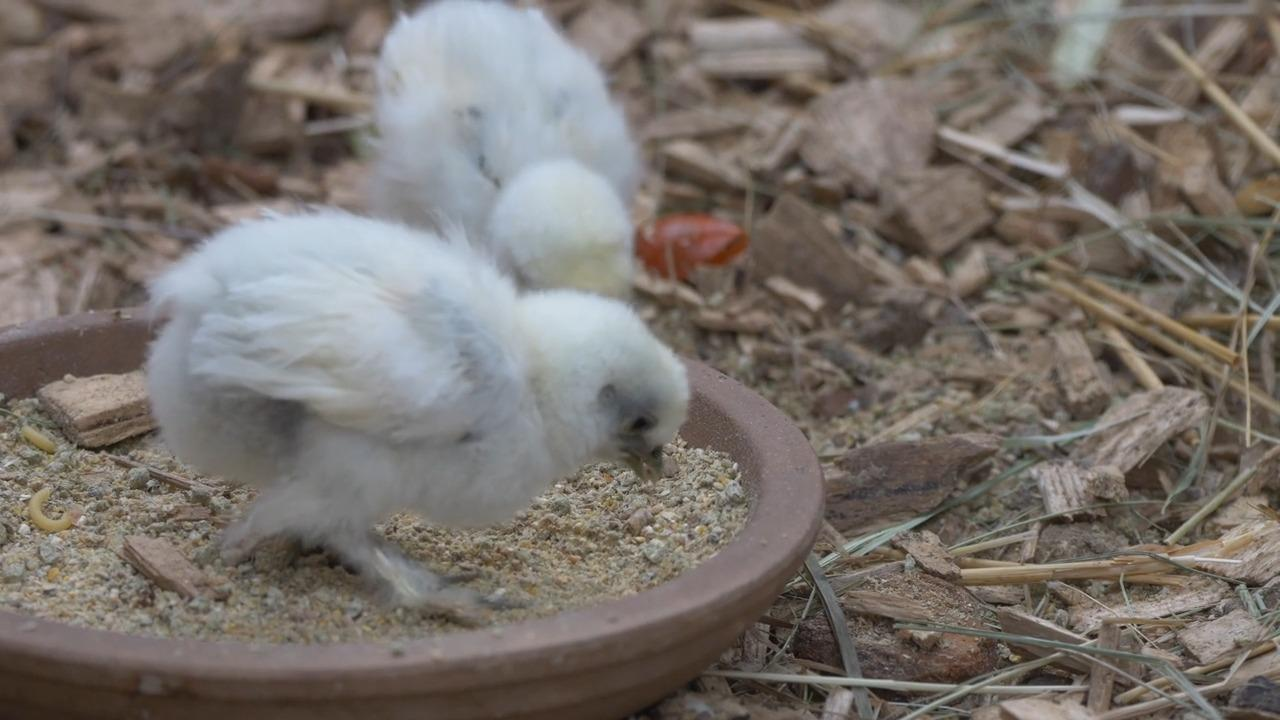Normal: (150, 186, 696, 598)
